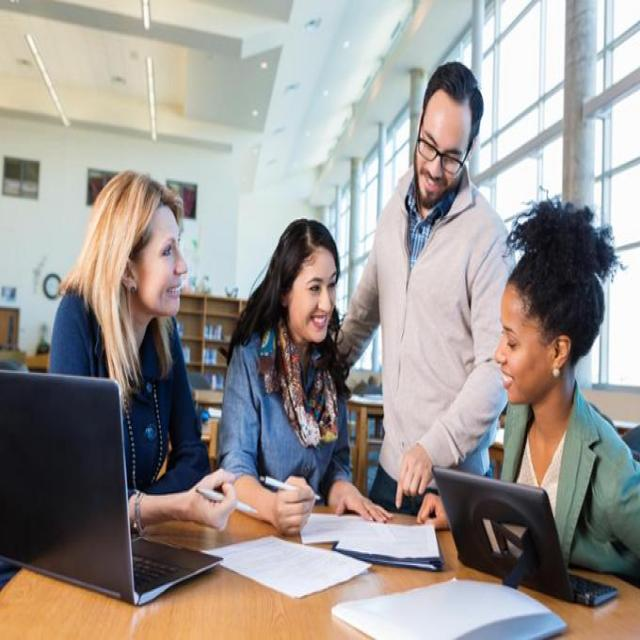adult: (340, 61, 514, 514), (46, 170, 239, 530), (485, 201, 640, 581), (216, 218, 398, 522)
